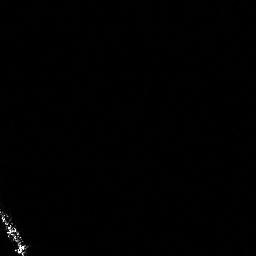ship: (1, 203, 34, 256)
